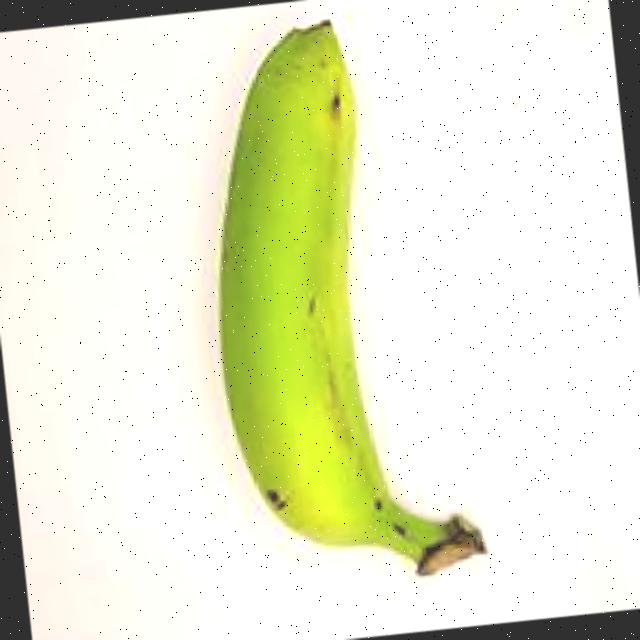Unripe: (128, 0, 522, 611)
